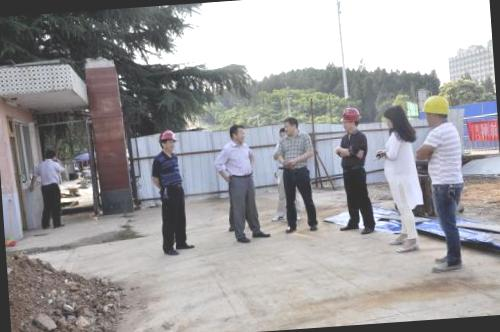no_helmet: (381, 102, 407, 136), (224, 123, 248, 146), (282, 116, 300, 136), (40, 146, 56, 166)
